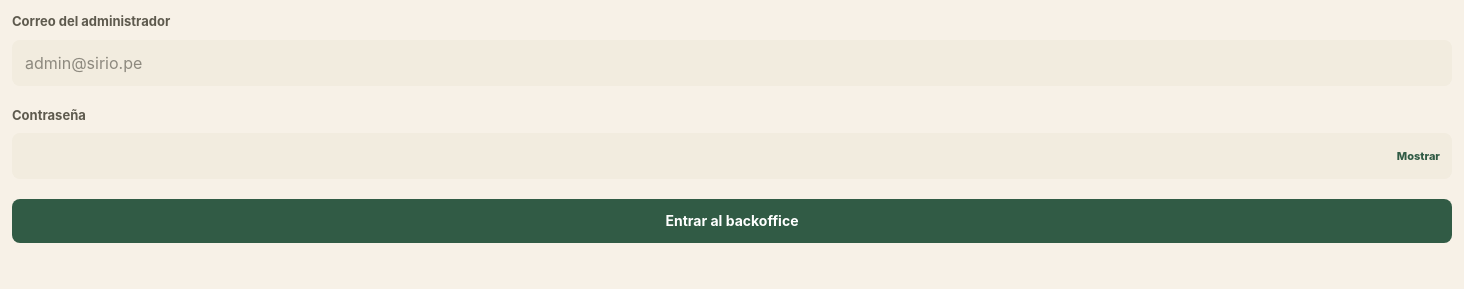
Test: LoginForm › no envía el correo admin y explica cómo escribirlo
The width and height of the screenshot is (1464, 289).
Type "admin" into the field labelled "Correo del administrador" at (732, 62), box [12,40,1452,86]
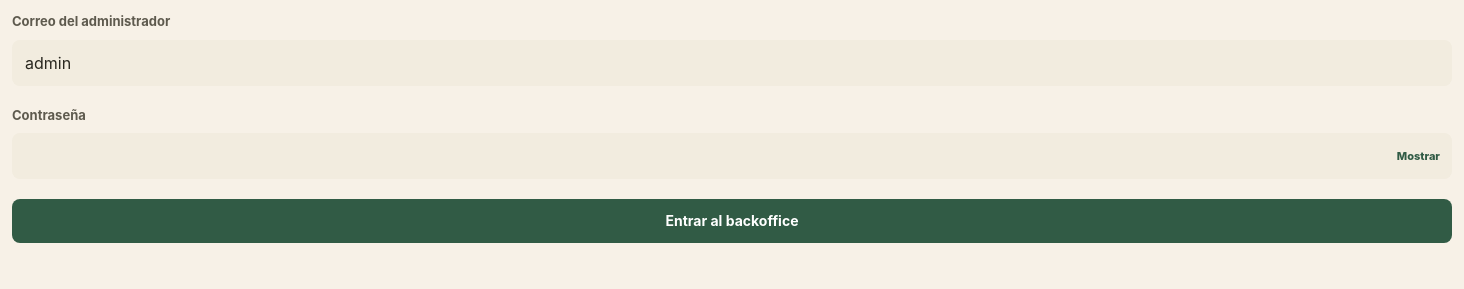
Type "AdminPass-1" into the password field labelled "Contraseña" at (732, 156), box [12,133,1452,179]
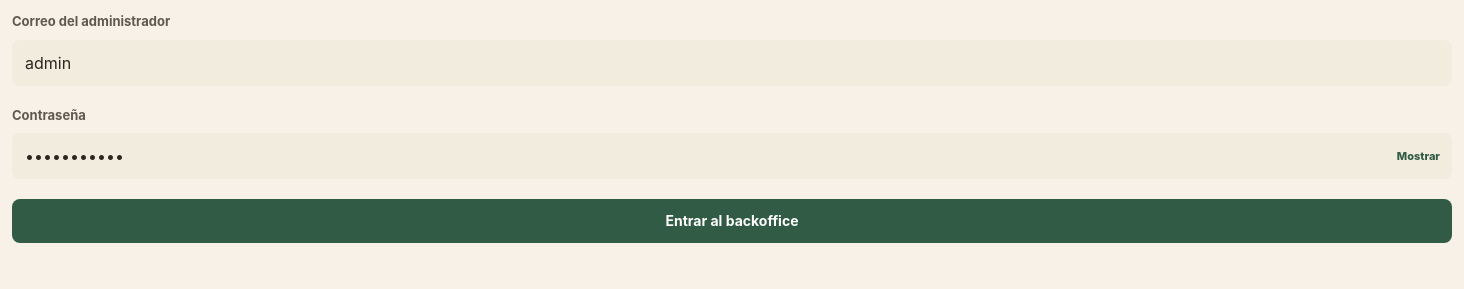
Click the button "Entrar al backoffice" at (732, 221), box [12,199,1452,243]
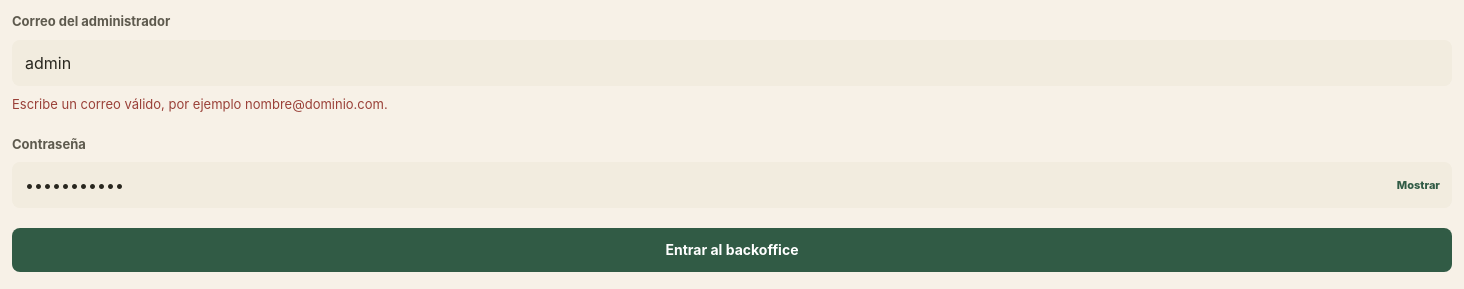
expect the message reads "Escribe un correo válido, por ejemplo nombre@dominio.com.": met, box [12,96,388,112]
